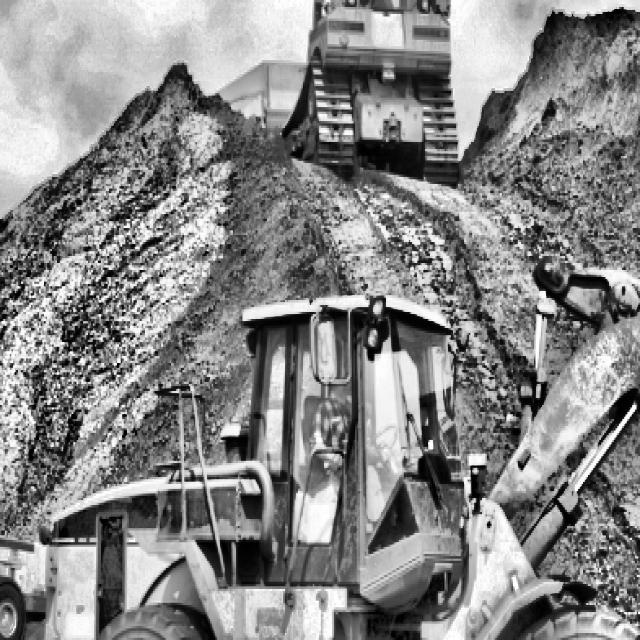buldozerpayloadergrader: (93, 11, 640, 640), (300, 0, 477, 184)
